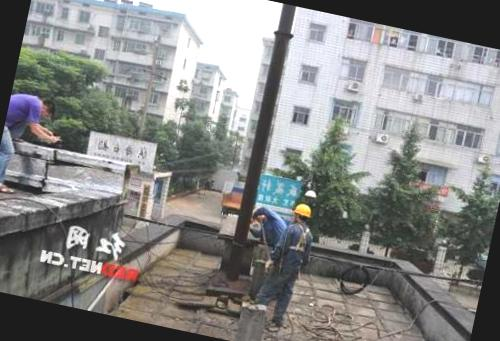no_helmet: (34, 94, 60, 120)
